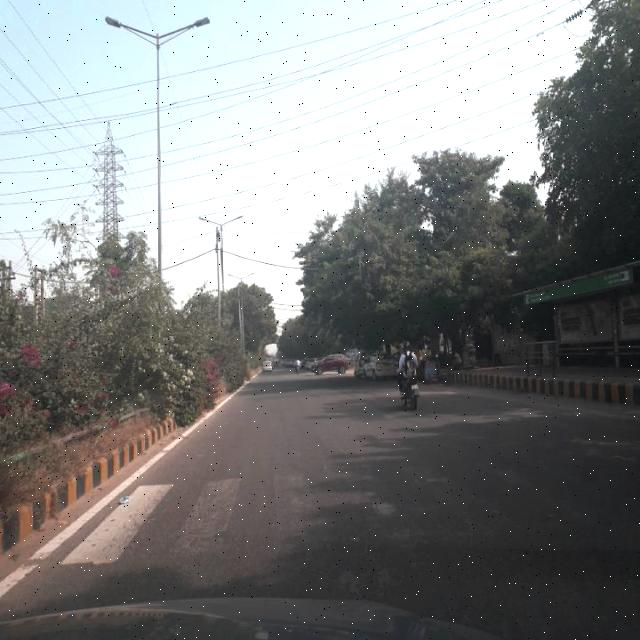D43: (52, 445, 634, 575)
